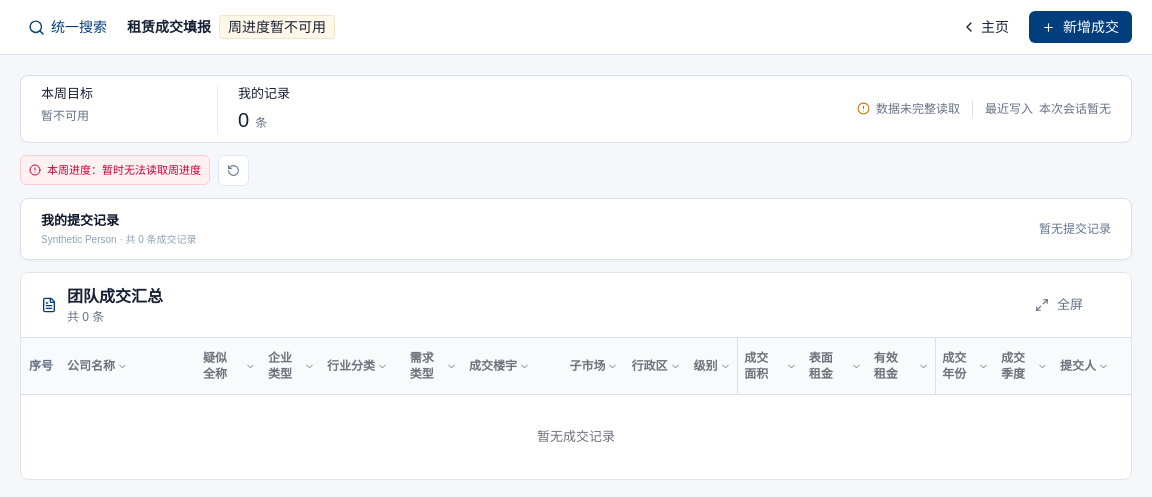
lease form deferred mounting › keeps the successful metric, identifies a failed read, and recovers through the existing retry
The image size is (1152, 497).
Check: the text "数据未完整读取" is shown, box [857, 101, 960, 117]
Check: the text "暂不可用" is shown, box [41, 108, 89, 122]
Click the button named "重试加载本周进度": click(234, 170) [218, 154, 249, 186]
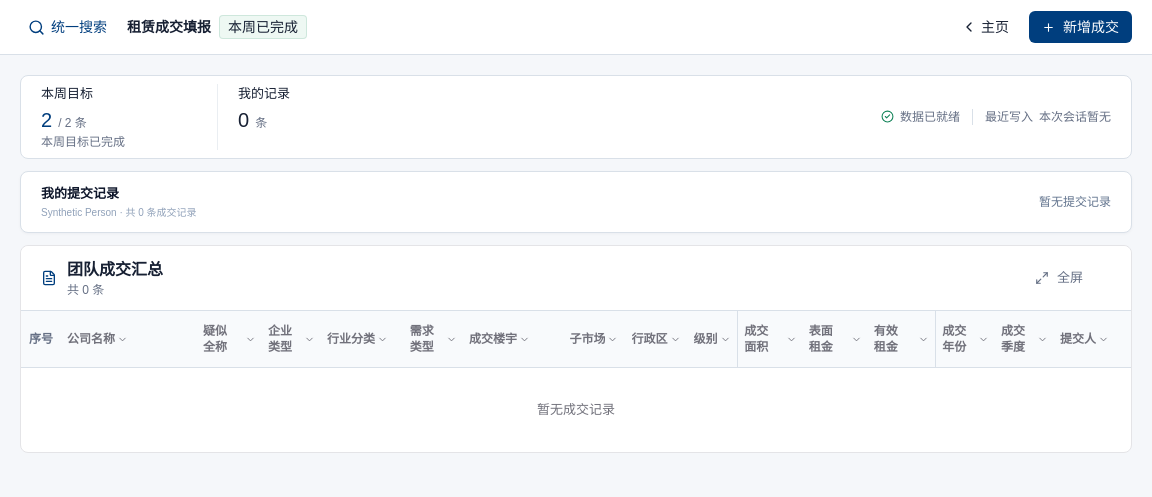
Check: the text "本周目标已完成" is shown, box [41, 134, 125, 148]
Check: the text "数据已就绪" is shown, box [881, 109, 960, 125]
